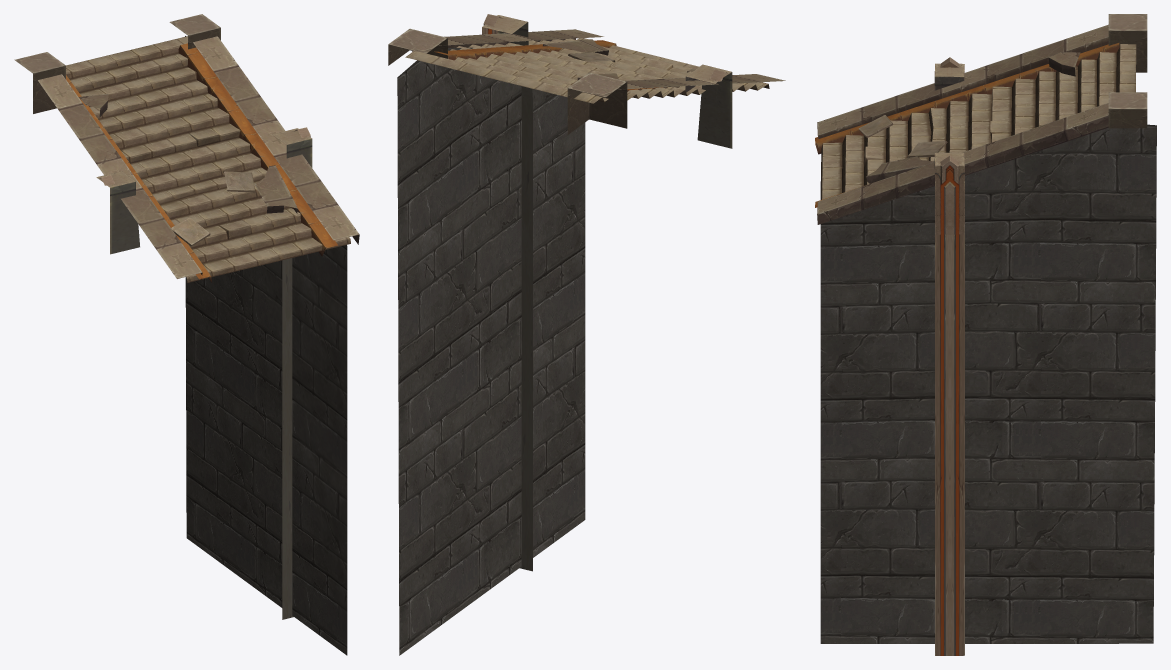
File: terrain_section03_guanka1205.FBX
The picture shows the model from 3 angles, left to right: view 1: azimuth 30°, elevation 25°; view 2: azimuth 150°, elevation 25°; view 3: azimuth 270°, elevation 25°; orthographic projection. The views are drawn at different scales.
Visible parts, largest first — view 1: terrain_section03_guanka1205; view 2: terrain_section03_guanka1205; view 3: terrain_section03_guanka1205.
Part boxes in pixels (x1,y1,x2,y2): terrain_section03_guanka1205: [14, 14, 359, 655]; terrain_section03_guanka1205: [388, 14, 785, 655]; terrain_section03_guanka1205: [815, 14, 1156, 655].
Bounding box in the file's own units: 11.27 × 27.46 × 15.66.
